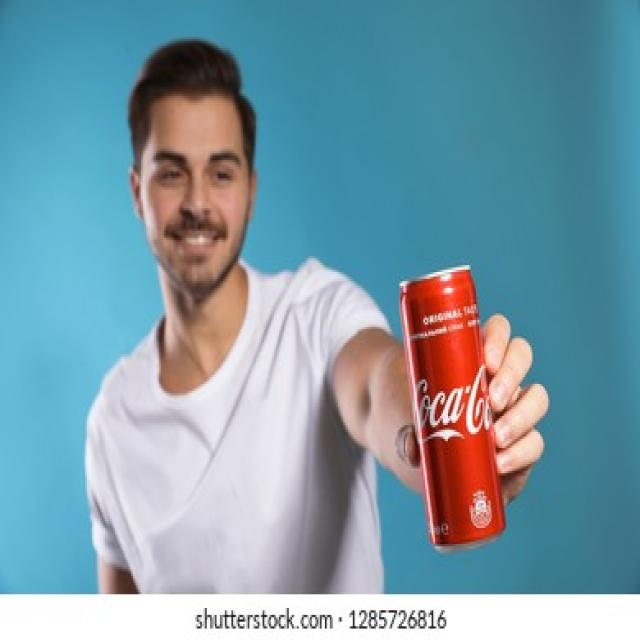soda_can: (376, 228, 524, 576)
